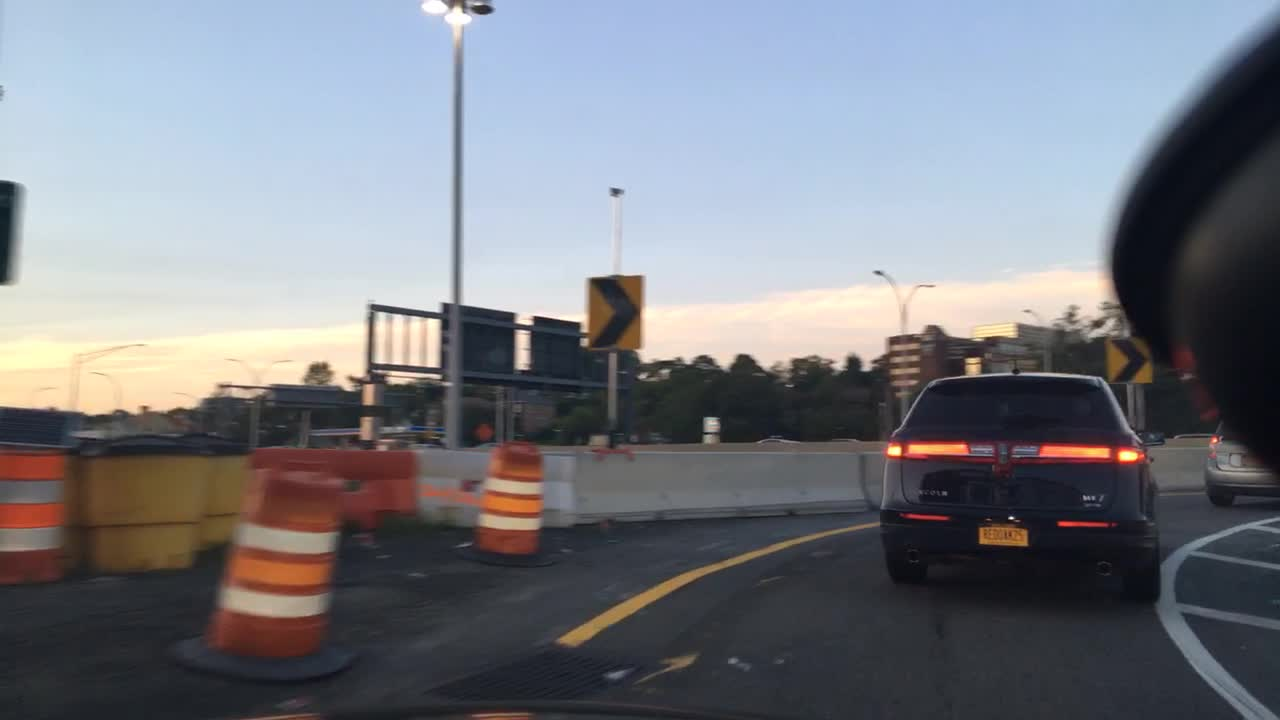car: (875, 363, 1162, 605), (1201, 406, 1278, 513), (68, 421, 249, 454), (753, 431, 804, 443), (1174, 428, 1216, 441)
traffic sign: (440, 305, 519, 382), (583, 272, 642, 350), (530, 314, 583, 382), (1104, 333, 1150, 390), (1, 178, 20, 283), (471, 422, 498, 441)
